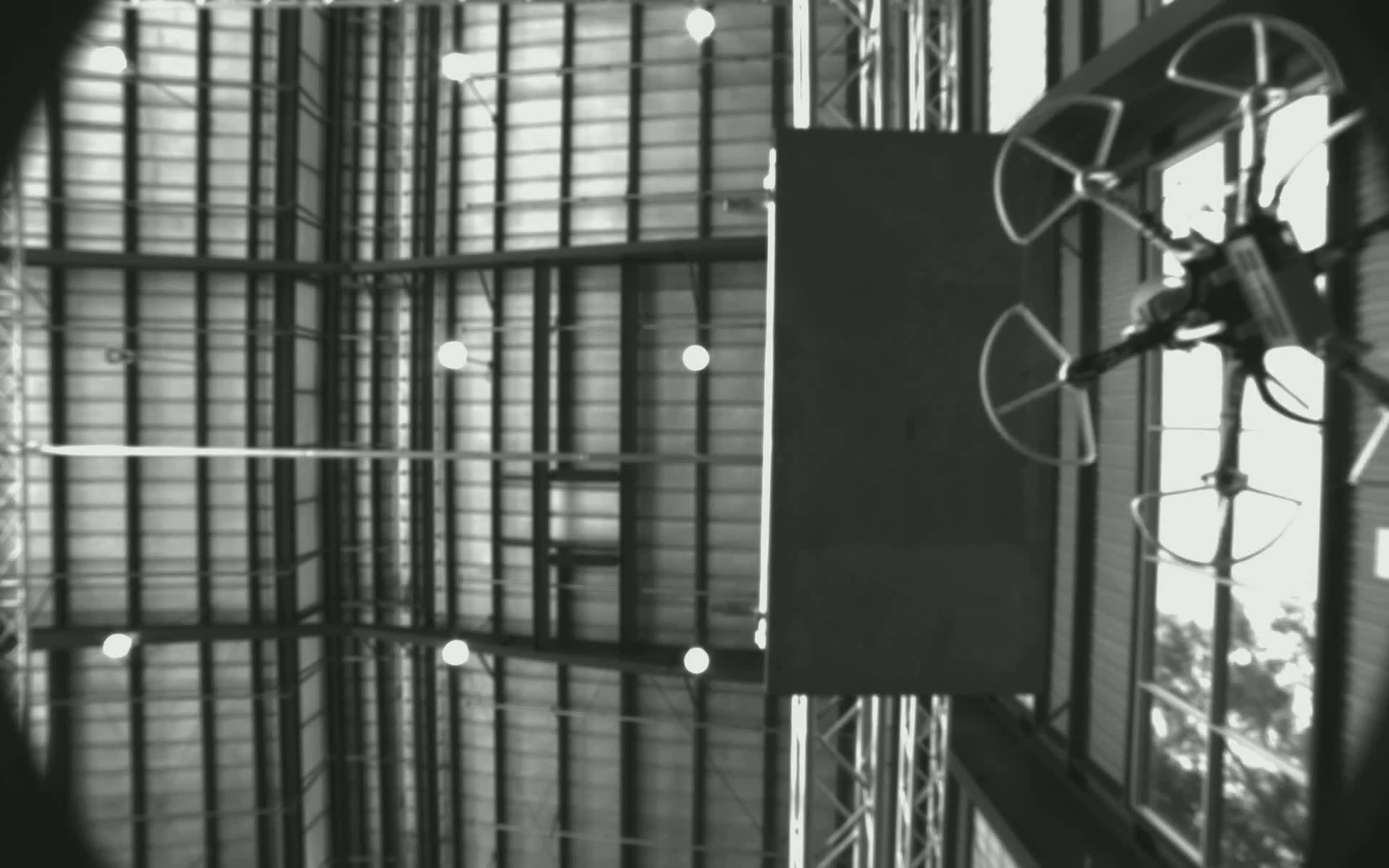drone: (977, 0, 1389, 577)
